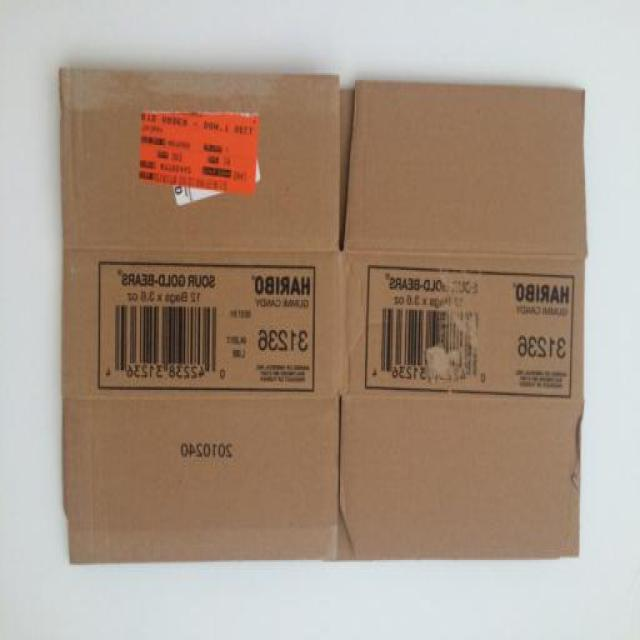cardboard: (60, 70, 584, 564)
